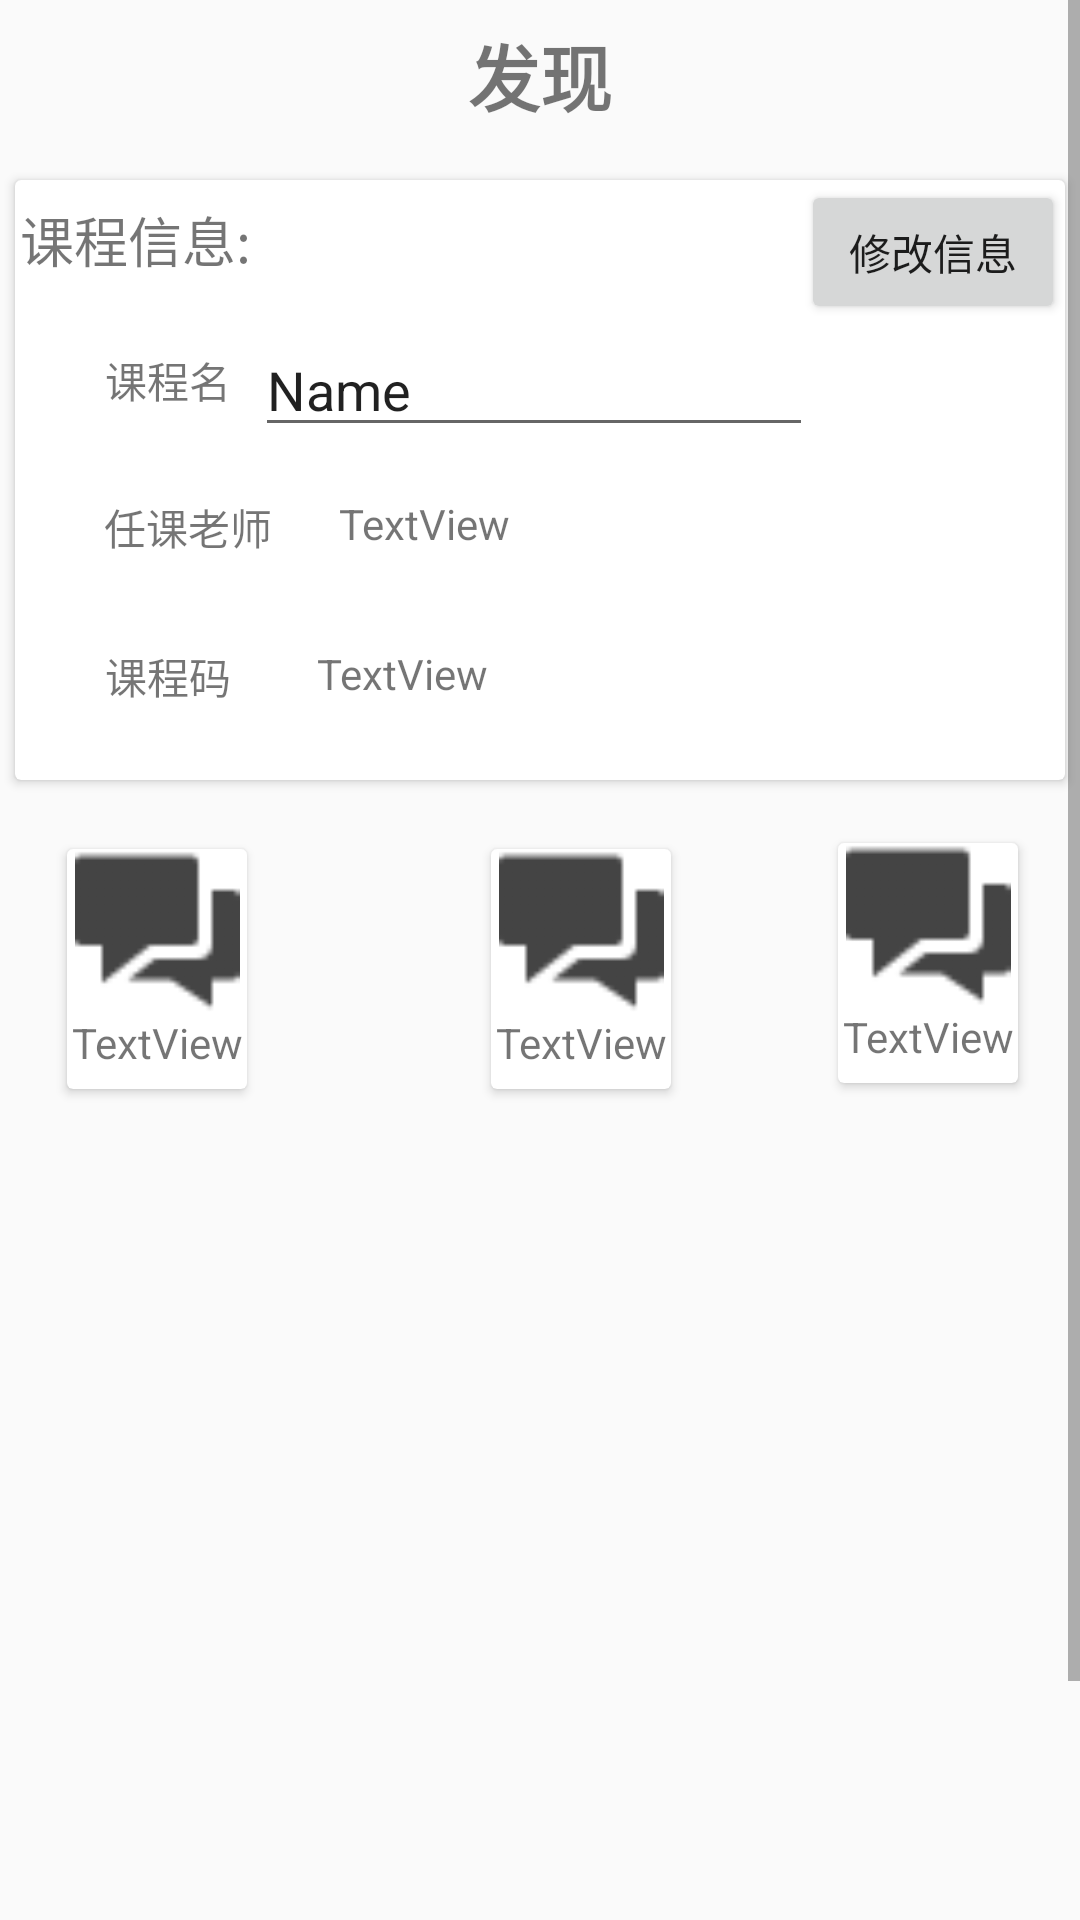

Icons on this 1080x1920 Android screen, each with its box as box=[x1, y1, x2, y2]:
chat glyph: box=[846, 847, 1011, 1002], box=[75, 853, 240, 1008], box=[499, 853, 664, 1008]
